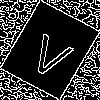V: (25, 25, 80, 82)
